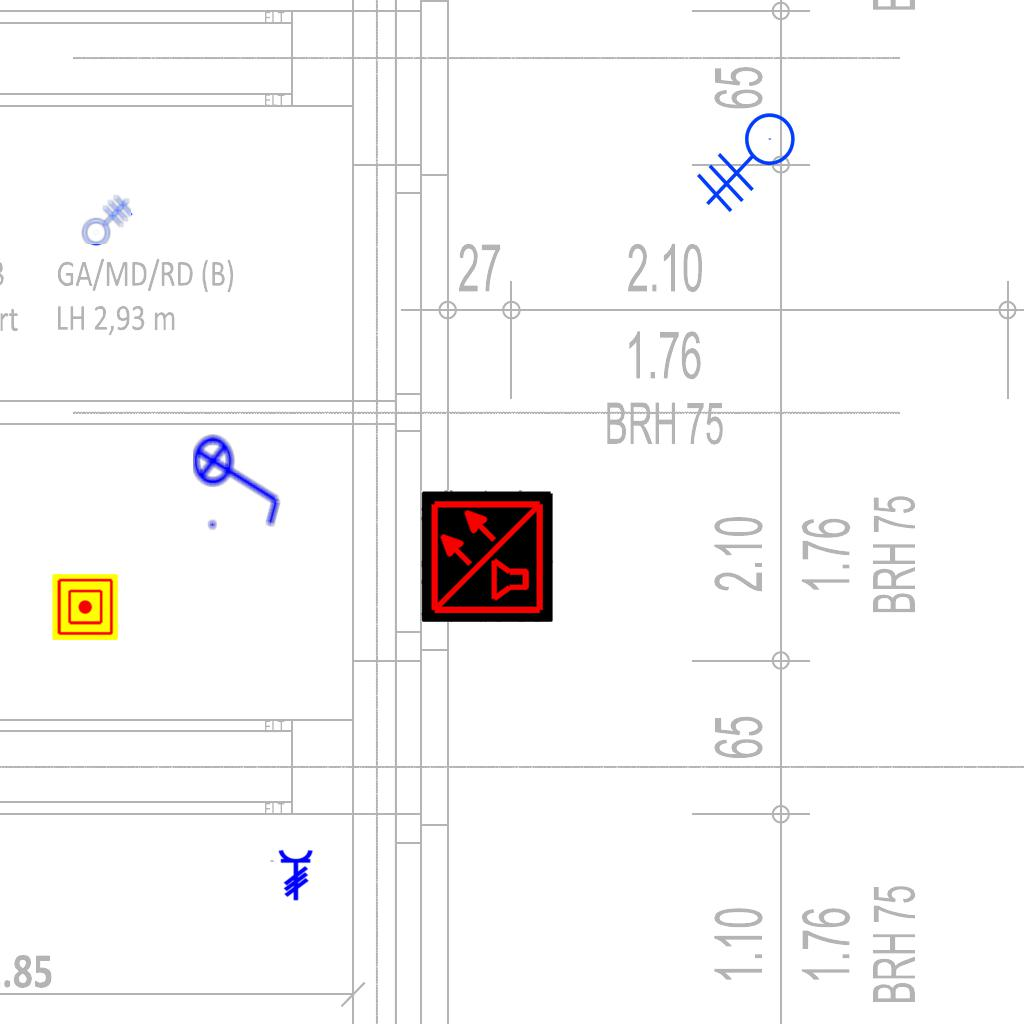Ausschalter_beleuchtet: (191, 422, 287, 534)
CEE_Drehstrom_Steckdose_16_32_A: (269, 849, 314, 901)
Elektroanschluss_allgemein_400V_Geraeteanschlussdose_400V: (696, 112, 812, 225), (75, 190, 133, 246)
NAM-Nichtautomatischer_Melder: (52, 574, 118, 640)
OKW_Multisensormelder_(Kombination_optischer_Rauch-Kahlenmonoxid_Waerme-Melder): (421, 490, 553, 622)
